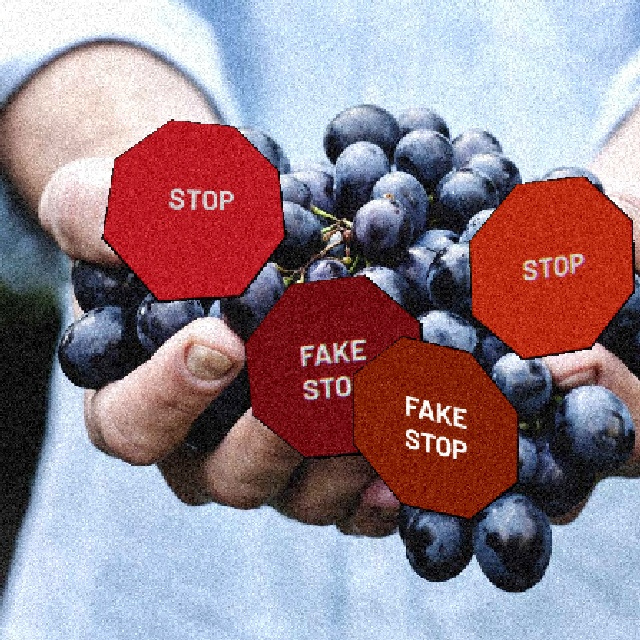FAKE_STOP: (243, 273, 424, 458), (351, 334, 518, 519)
STOP: (100, 118, 285, 301), (467, 174, 634, 359)
